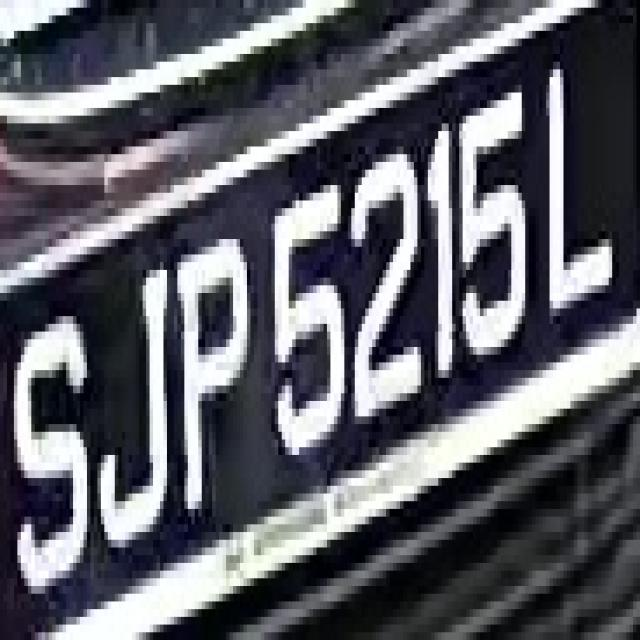1: (417, 116, 473, 393)
2: (344, 147, 418, 447)
5: (261, 177, 344, 455), (456, 85, 522, 370)
J: (101, 232, 170, 548)
L: (536, 38, 622, 324)
P: (174, 216, 254, 509)
S: (10, 278, 94, 624)
